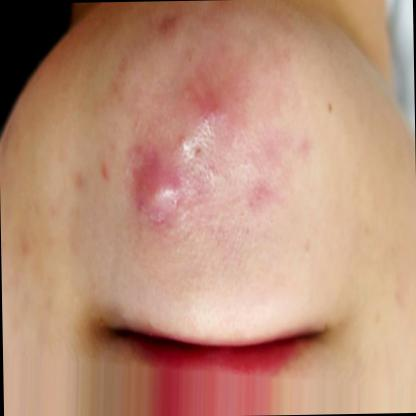Acne: (195, 96, 224, 144)
